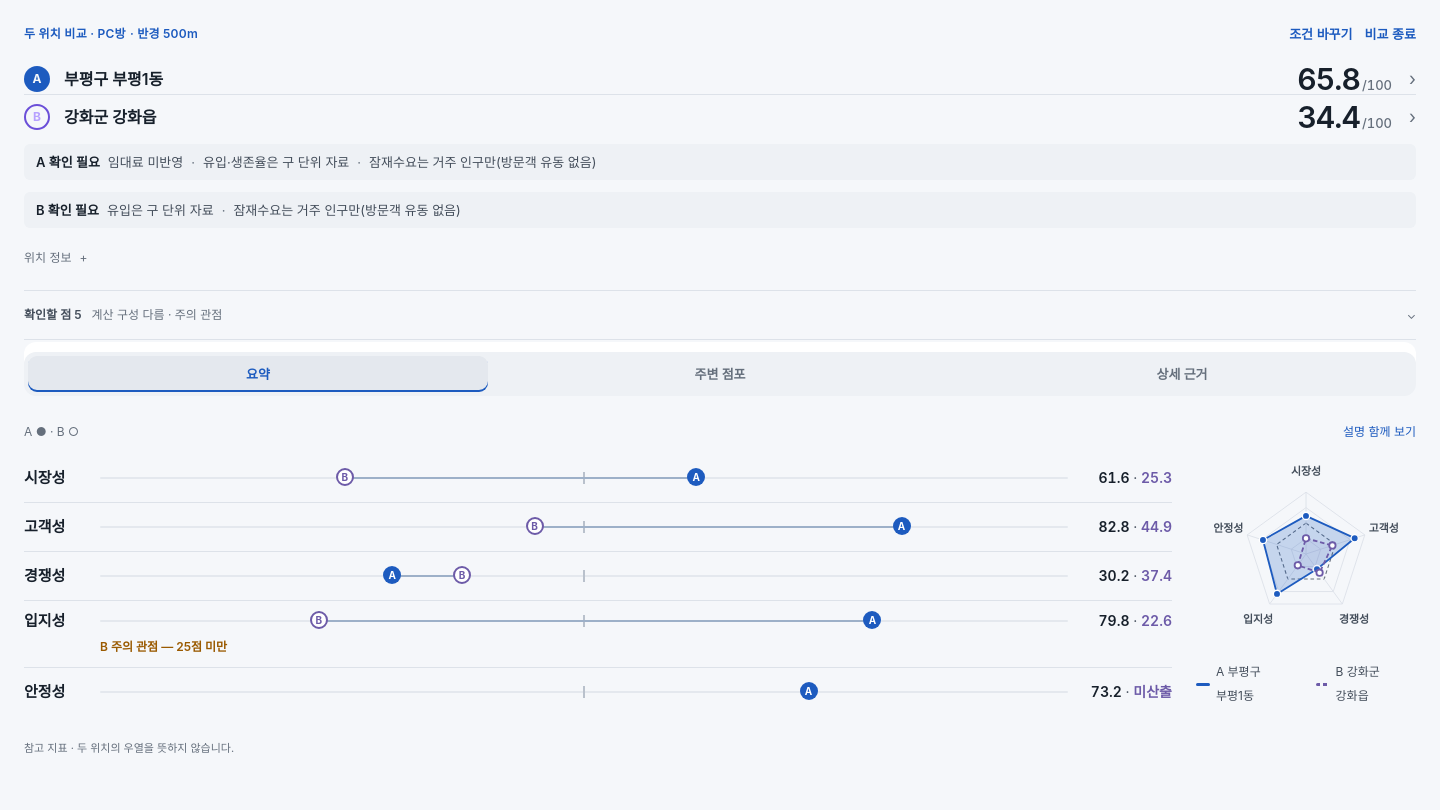
Test case: CompareResult — 점수 비교 표 › 종합 계산 구성이 다르면 종합 차이에 †와 설명(각주 연결)을 붙인다
This screenshot has width=1440, height=810.
Click the tab "상세 근거" at [1182, 374], box [952,356,1412,392]
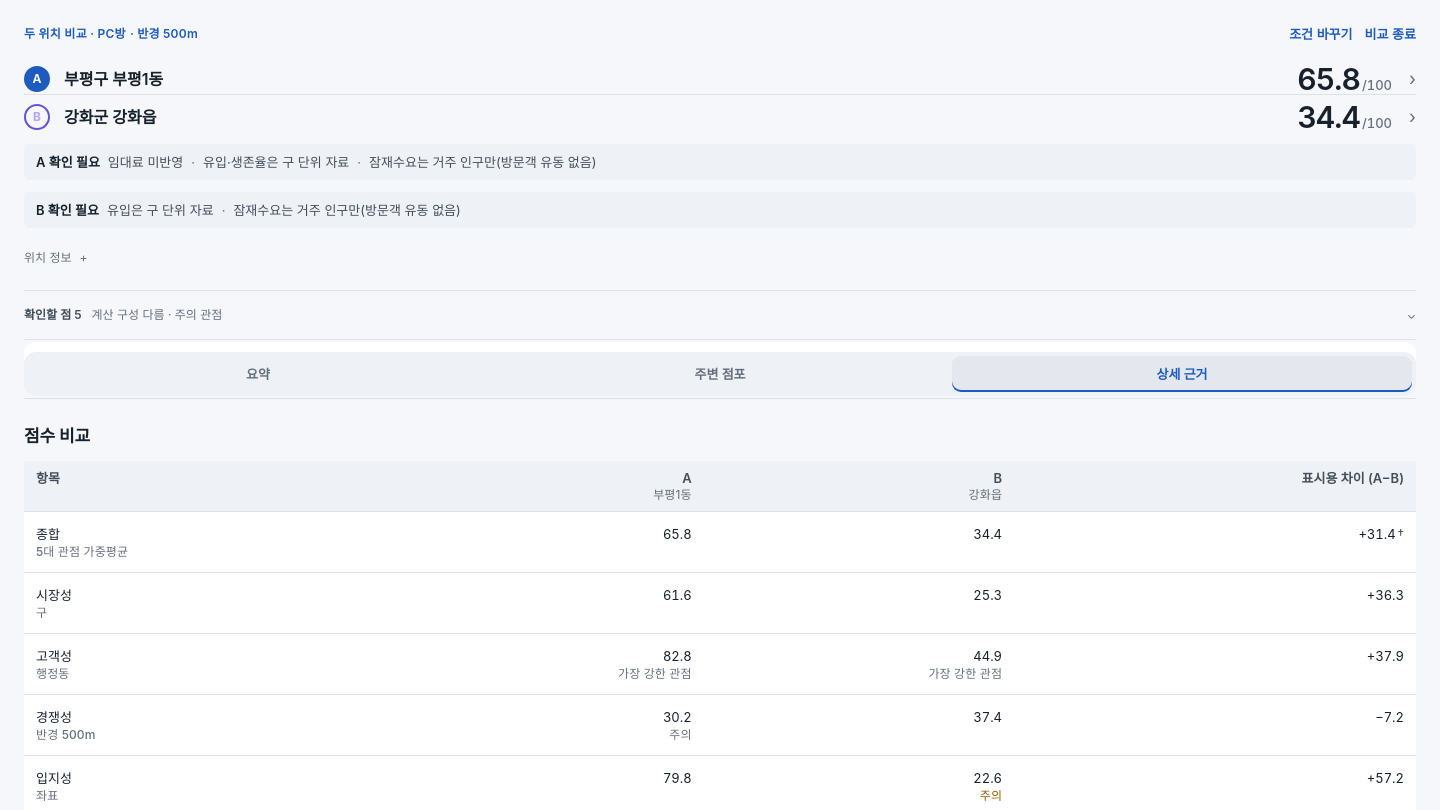
Expected: the text "†" is not shown
Expected: the cell "+31.4†" is shown, [1014,512,1416,572]
